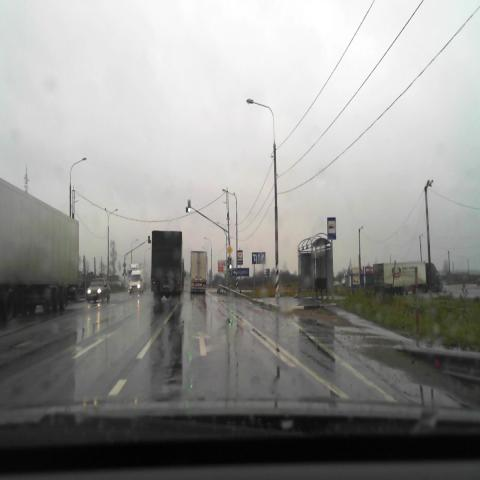5_15_1: (252, 252, 266, 265)
5_16: (327, 217, 336, 239)
